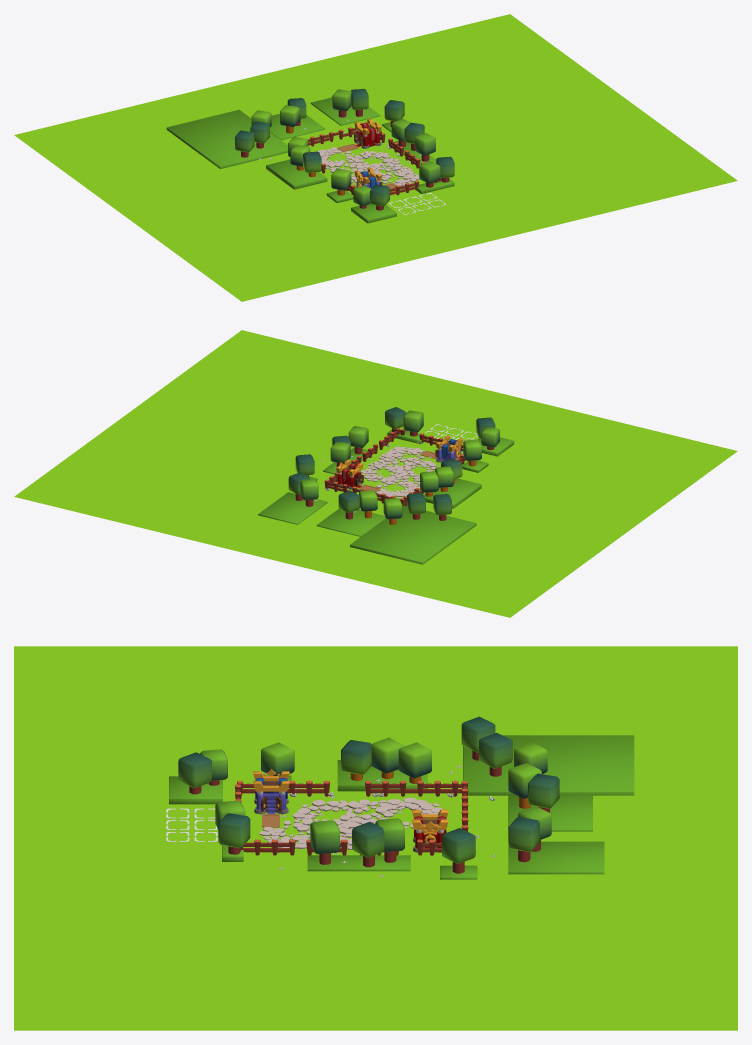
The model's file is Map1_levels.fbx.
The picture shows the model from 3 angles, top to bottom: view 1: azimuth 30°, elevation 25°; view 2: azimuth 150°, elevation 25°; view 3: azimuth 270°, elevation 25°; orthographic projection. The views are drawn at different scales.
Visible parts, largest first — view 1: Zemin.008, Cube.079, Cİt.001, YOL5, Plane.020, YOL4; view 2: Zemin.008, Cube.079, Cİt.001, YOL5, YOL4, Plane.020, Plane.019; view 3: Zemin.008, Cube.079, Cİt.001, Plane.019, YOL4, YOL5, Cube.094, Cube.104, Cube.093, Cube.083, Cube.097, Cube.099 (+12 smaller).
Part boxes in pixels (bbox=[...]): Zemin.008: bbox=[14, 14, 737, 301]; Cube.079: bbox=[166, 97, 454, 223]; Cİt.001: bbox=[307, 127, 441, 195]; YOL5: bbox=[319, 147, 411, 185]; Plane.020: bbox=[354, 118, 381, 148]; YOL4: bbox=[318, 149, 417, 186]; Zemin.008: bbox=[14, 330, 737, 617]; Cube.079: bbox=[258, 429, 514, 564]; Cİt.001: bbox=[324, 428, 465, 505]; YOL5: bbox=[363, 448, 436, 496]; YOL4: bbox=[361, 447, 440, 498]; Plane.020: bbox=[336, 459, 363, 489]; Plane.019: bbox=[435, 435, 462, 462]; Zemin.008: bbox=[14, 646, 737, 1030]; Cube.079: bbox=[169, 735, 634, 879]; Cİt.001: bbox=[235, 780, 468, 855]; Plane.019: bbox=[253, 769, 289, 814]; YOL4: bbox=[259, 797, 442, 846]; YOL5: bbox=[263, 799, 434, 849]; Cube.094: bbox=[442, 828, 475, 873]; Cube.104: bbox=[479, 732, 512, 776]; Cube.093: bbox=[352, 821, 384, 867]; Cube.083: bbox=[508, 817, 539, 862]; Cube.097: bbox=[178, 752, 211, 794]; Cube.099: bbox=[398, 742, 431, 783].
Size of the model in its own units: 22071 by 1155 by 17558.
